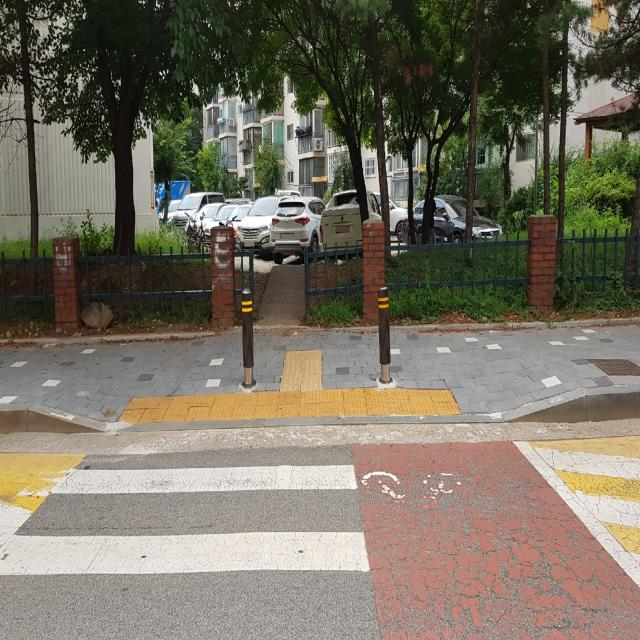횡단보도: (0, 462, 371, 578)
